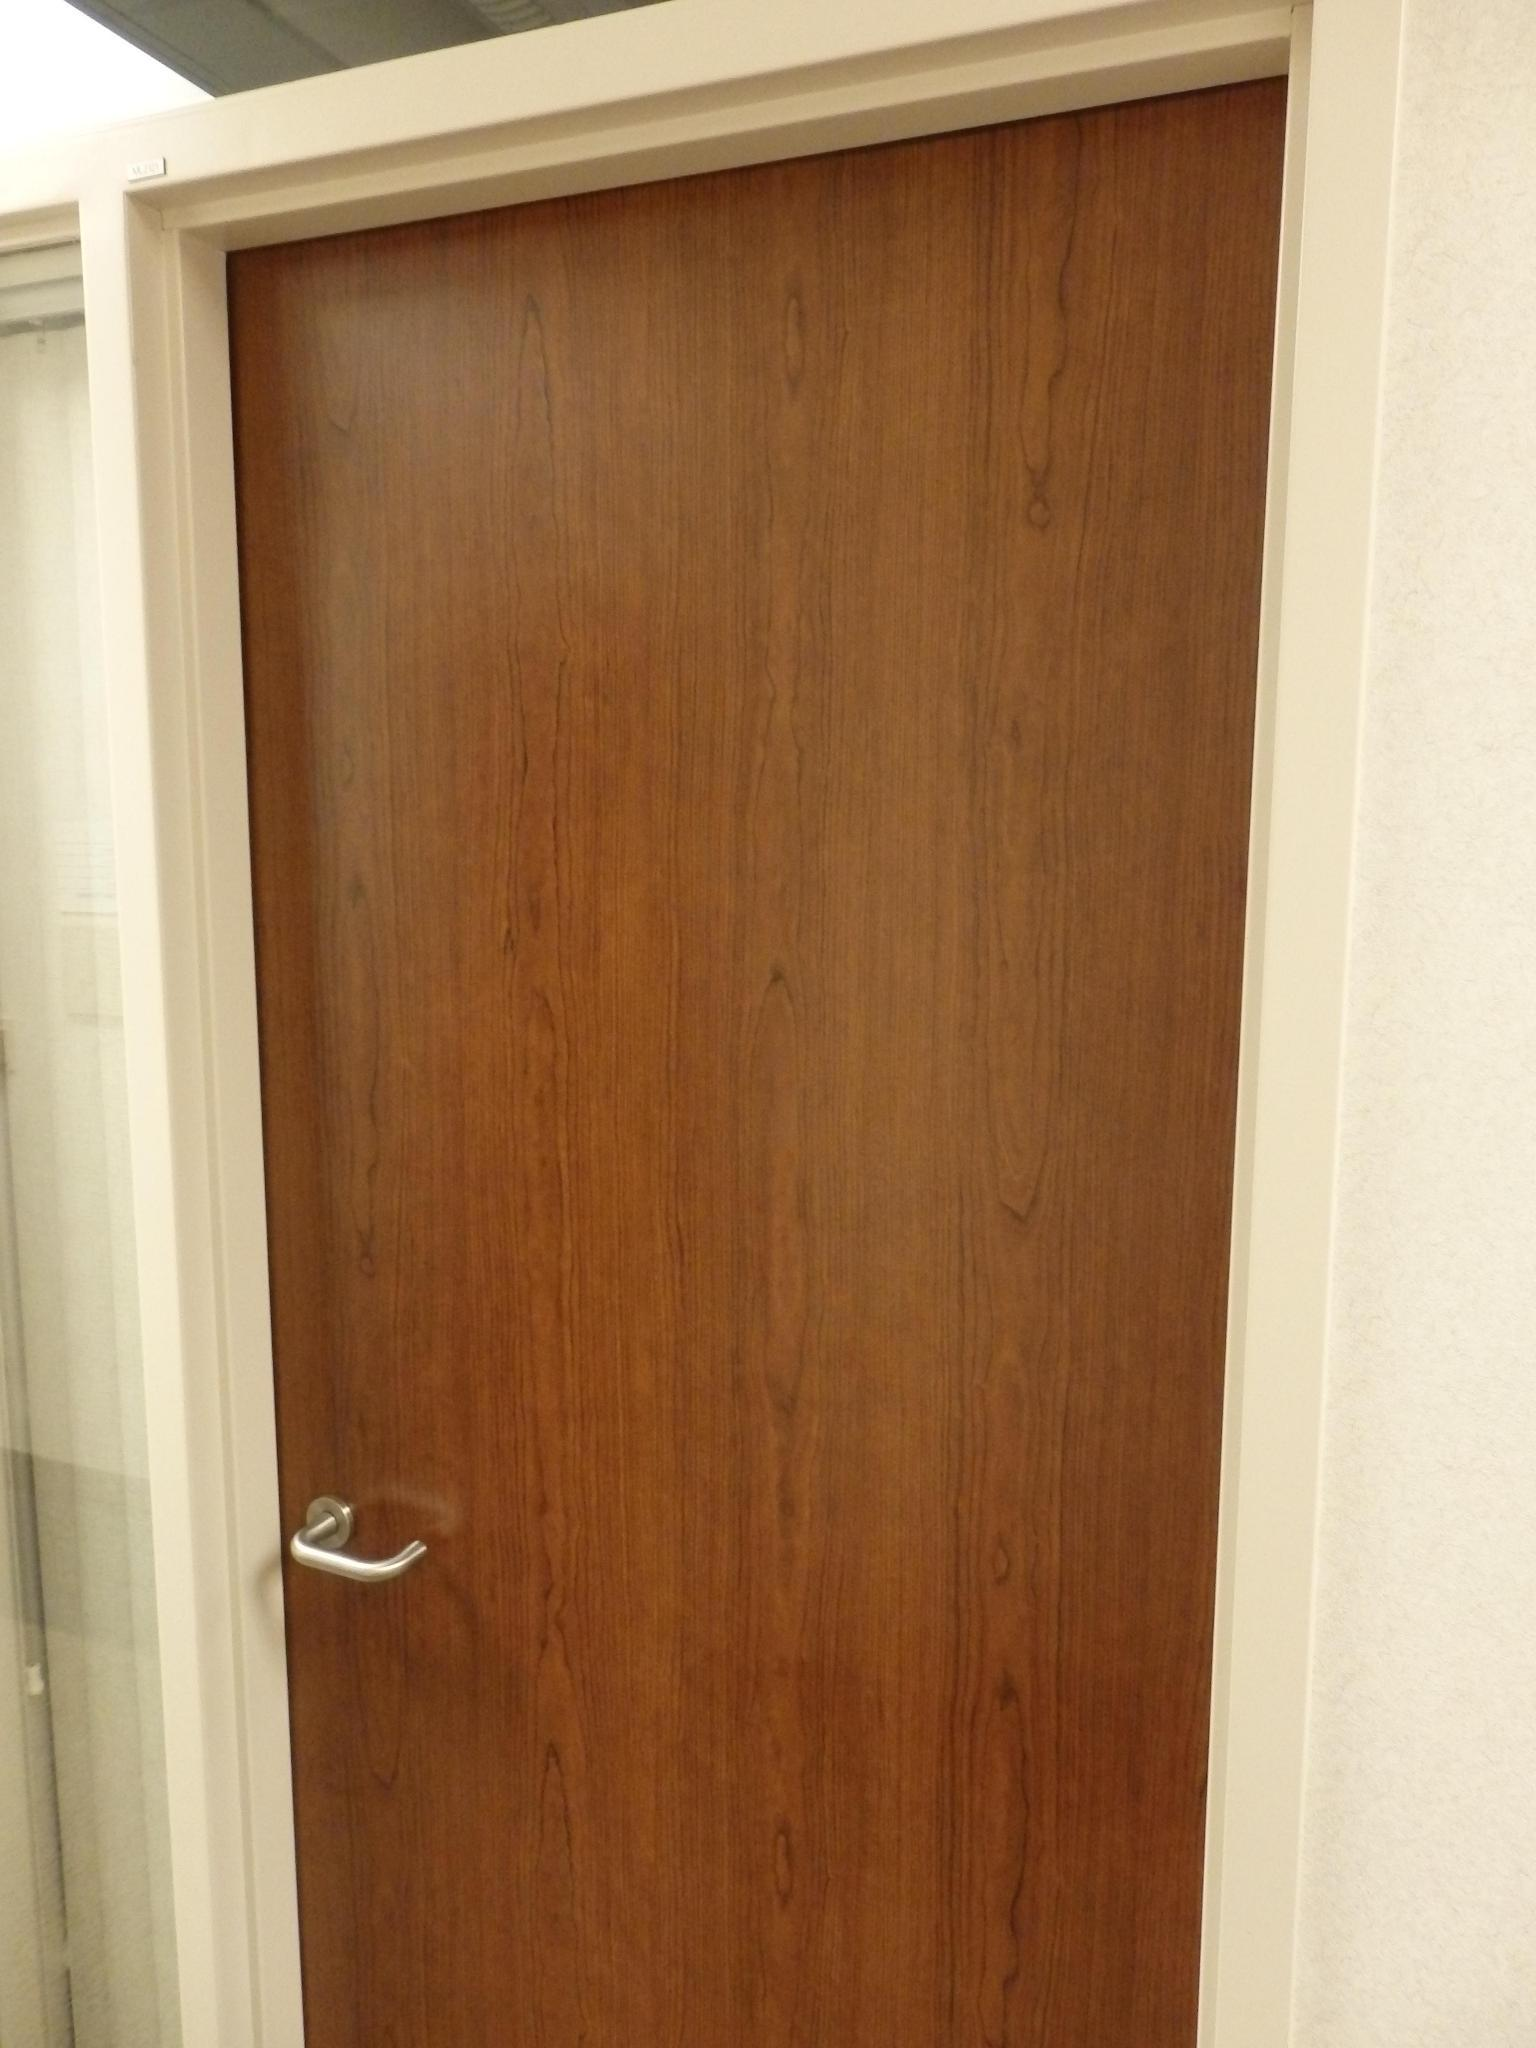door: (257, 287, 1176, 2046)
handle: (286, 1482, 431, 1605)
